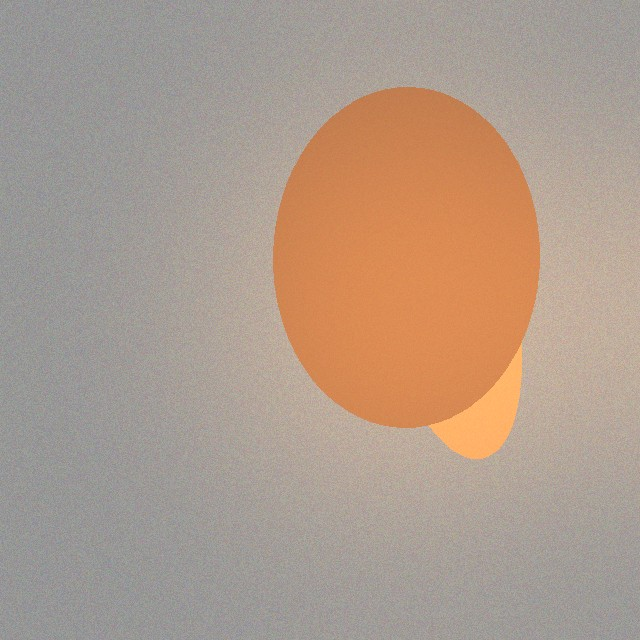fire: (297, 167, 539, 449)
